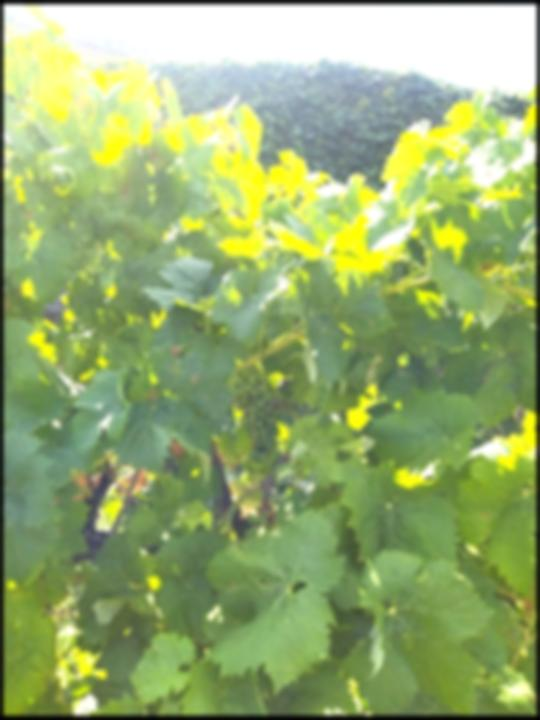grape: (229, 367, 290, 494)
